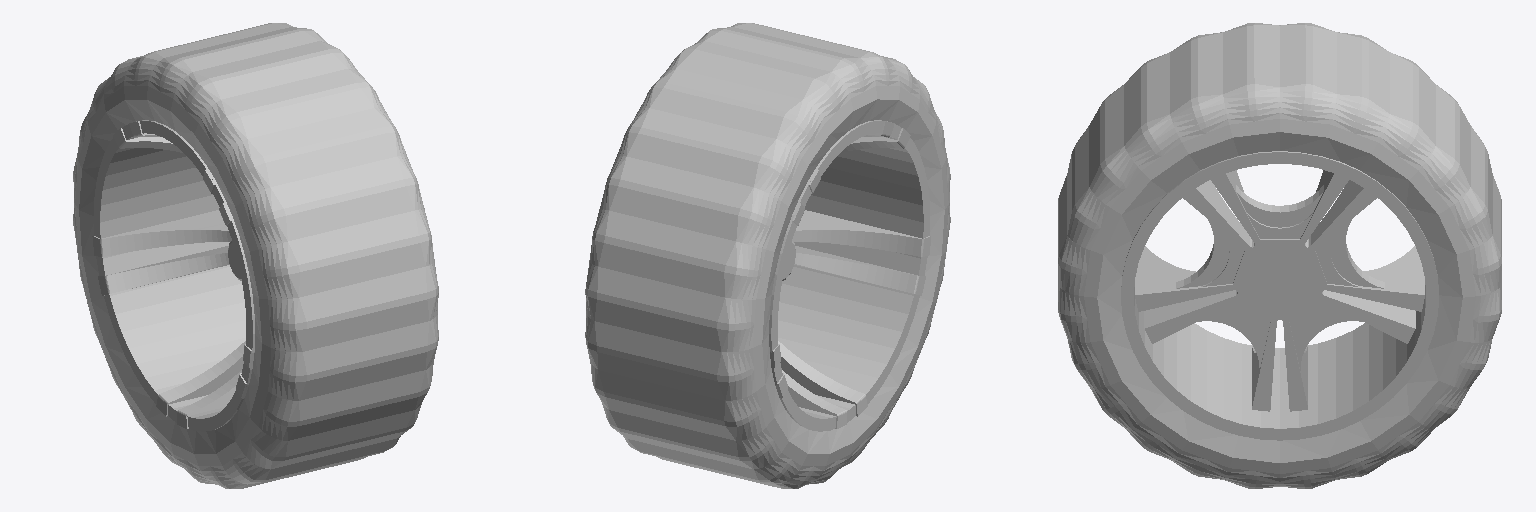
File: _truckwheel.obj
3 renders of one model, left to right at view 1: azimuth 30°, elevation 25°; view 2: azimuth 150°, elevation 25°; view 3: azimuth 270°, elevation 25°, orthographic.
Visible parts, largest first — view 1: Mesh7_Group5_Model_Mesh7_Group5_Model_Color_007_Mesh7_Group5_Mod, Mesh4_Group4_Model_Mesh4_Group4_Model_Color_007_Mesh4_Group4_Mod, Mesh3_Group3_Model_Mesh3_Group3_Model_Color_003_Mesh3_Group3_Mod, Mesh2_Group2_Model_Mesh2_Group2_Model_Metal_Aluminum_Anodized_Me, Mesh2_Group2_Model_Mesh2_Group2_Model__Gray6__Mesh2_Group2_Model, Mesh6_Group4_Model_Mesh6_Group4_Model_Color_007_Mesh6_Group4_Mod; view 2: Mesh7_Group5_Model_Mesh7_Group5_Model_Color_007_Mesh7_Group5_Mod, Mesh4_Group4_Model_Mesh4_Group4_Model_Color_007_Mesh4_Group4_Mod, Mesh3_Group3_Model_Mesh3_Group3_Model_Color_003_Mesh3_Group3_Mod, Mesh2_Group2_Model_Mesh2_Group2_Model_Metal_Aluminum_Anodized_Me, Mesh2_Group2_Model_Mesh2_Group2_Model__Gray6__Mesh2_Group2_Model, Mesh6_Group4_Model_Mesh6_Group4_Model_Color_007_Mesh6_Group4_Mod; view 3: Mesh6_Group4_Model_Mesh6_Group4_Model_Color_007_Mesh6_Group4_Mod, Mesh2_Group2_Model_Mesh2_Group2_Model__Gray6__Mesh2_Group2_Model, Mesh3_Group3_Model_Mesh3_Group3_Model_Color_003_Mesh3_Group3_Mod, Mesh7_Group5_Model_Mesh7_Group5_Model_Color_007_Mesh7_Group5_Mod, Mesh5_Group4_Model_Mesh5_Group4_Model_Color_007_Mesh5_Group4_Mod.
Part boxes in pixels (x1,y1,x2,y2): Mesh7_Group5_Model_Mesh7_Group5_Model_Color_007_Mesh7_Group5_Mod: (132, 23, 429, 488); Mesh4_Group4_Model_Mesh4_Group4_Model_Color_007_Mesh4_Group4_Mod: (73, 52, 306, 488); Mesh3_Group3_Model_Mesh3_Group3_Model_Color_003_Mesh3_Group3_Mod: (94, 120, 254, 431); Mesh2_Group2_Model_Mesh2_Group2_Model_Metal_Aluminum_Anodized_Me: (102, 135, 245, 413); Mesh2_Group2_Model_Mesh2_Group2_Model__Gray6__Mesh2_Group2_Model: (92, 121, 251, 428); Mesh6_Group4_Model_Mesh6_Group4_Model_Color_007_Mesh6_Group4_Mod: (278, 23, 438, 452); Mesh7_Group5_Model_Mesh7_Group5_Model_Color_007_Mesh7_Group5_Mod: (595, 23, 892, 488); Mesh4_Group4_Model_Mesh4_Group4_Model_Color_007_Mesh4_Group4_Mod: (717, 52, 950, 488); Mesh3_Group3_Model_Mesh3_Group3_Model_Color_003_Mesh3_Group3_Mod: (769, 120, 929, 431); Mesh2_Group2_Model_Mesh2_Group2_Model_Metal_Aluminum_Anodized_Me: (778, 135, 921, 413); Mesh2_Group2_Model_Mesh2_Group2_Model__Gray6__Mesh2_Group2_Model: (772, 121, 930, 428); Mesh6_Group4_Model_Mesh6_Group4_Model_Color_007_Mesh6_Group4_Mod: (585, 23, 745, 452); Mesh6_Group4_Model_Mesh6_Group4_Model_Color_007_Mesh6_Group4_Mod: (1058, 84, 1501, 488); Mesh2_Group2_Model_Mesh2_Group2_Model__Gray6__Mesh2_Group2_Model: (1135, 170, 1424, 411); Mesh3_Group3_Model_Mesh3_Group3_Model_Color_003_Mesh3_Group3_Mod: (1121, 151, 1438, 440); Mesh7_Group5_Model_Mesh7_Group5_Model_Color_007_Mesh7_Group5_Mod: (1058, 25, 1501, 301); Mesh5_Group4_Model_Mesh5_Group4_Model_Color_007_Mesh5_Group4_Mod: (1097, 132, 1462, 462).
Bounding box in the file's own units: 1.18 × 2.65 × 2.65.